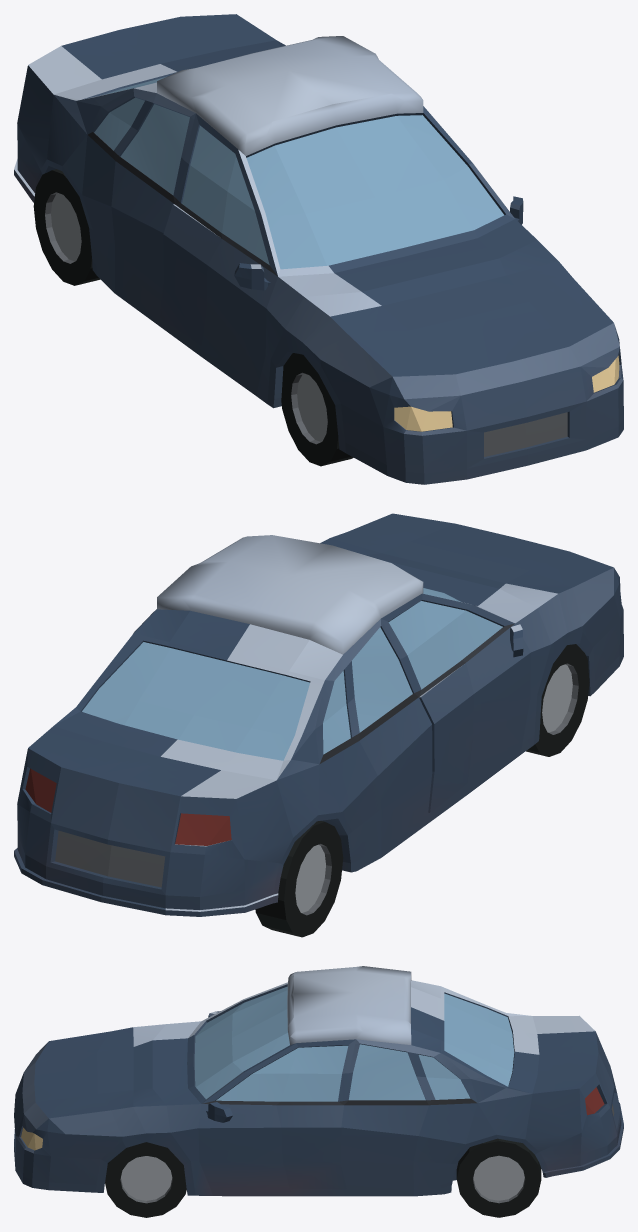
The model's file is sedan_clean.glb.
The picture shows the model from 3 angles, top to bottom: view 1: azimuth 30°, elevation 25°; view 2: azimuth 150°, elevation 25°; view 3: azimuth 270°, elevation 25°; orthographic projection. The views are drawn at different scales.
Visible parts, largest first — view 1: Body, Glass; view 2: Body, Glass; view 3: Body, Glass.
Part boxes in pixels (x1,y1,x2,y2): Body: [14, 14, 623, 484]; Glass: [94, 76, 503, 269]; Body: [14, 513, 623, 937]; Glass: [82, 588, 502, 760]; Body: [14, 966, 623, 1217]; Glass: [194, 986, 514, 1101].
Bounding box in the file's own units: 1.82 × 1.53 × 4.65.
